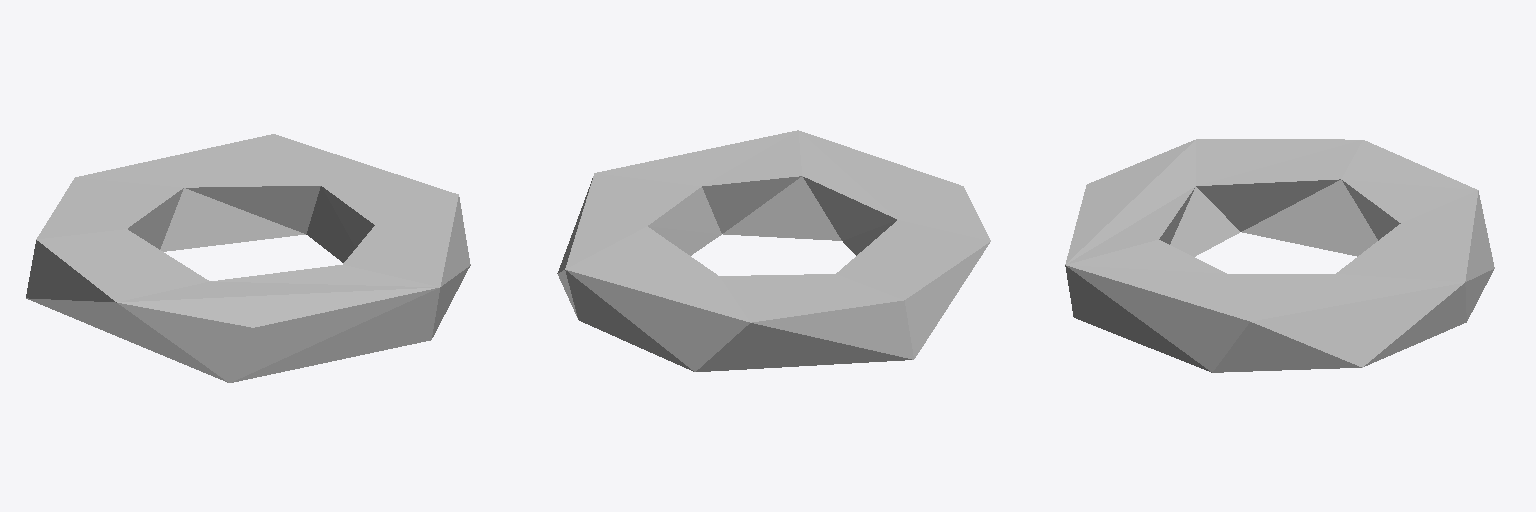
The model's file is doughnut_decimated_convex.obj.
The picture shows the model from 3 angles: view 1: azimuth 30°, elevation 25°; view 2: azimuth 150°, elevation 25°; view 3: azimuth 270°, elevation 25°; orthographic projection.
Parts seen in each view (by area): view 1: my_mesh_doughnut; view 2: my_mesh_doughnut; view 3: my_mesh_doughnut.
Part boxes in pixels (left/top/right/bottom): my_mesh_doughnut: left=26, top=134, right=470, bottom=382; my_mesh_doughnut: left=557, top=130, right=990, bottom=371; my_mesh_doughnut: left=1065, top=139, right=1494, bottom=372.
Size of the model in its own units: 45.39 by 6.8 by 44.86.